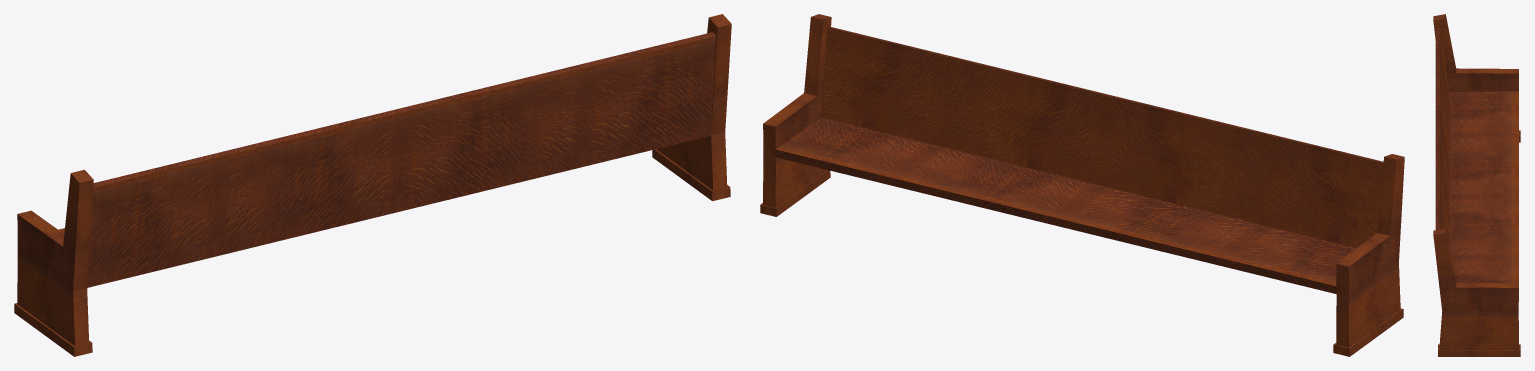
The model's file is Bench_Long.fbx.
3 renders of one model, left to right at view 1: azimuth 30°, elevation 25°; view 2: azimuth 150°, elevation 25°; view 3: azimuth 270°, elevation 25°, orthographic. The views are drawn at different scales.
Parts seen in each view (by area): view 1: Plane.001; view 2: Plane.001; view 3: Plane.001.
Boxes of the visible parts, box(x1,y1,x2,y2) form: Plane.001: box(14, 14, 731, 356); Plane.001: box(760, 14, 1404, 356); Plane.001: box(1433, 14, 1520, 356).
Size of the model in its own units: 1148 by 299 by 192.
